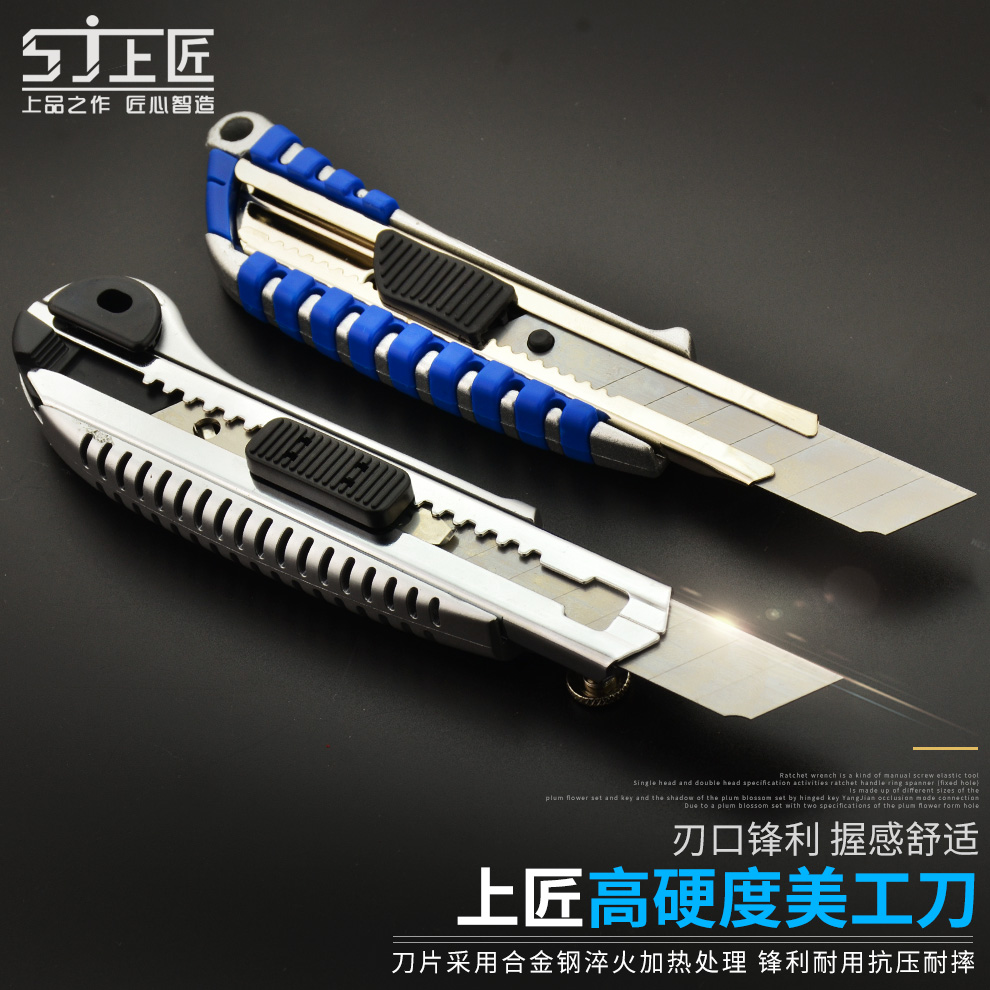cutter: (12, 273, 849, 720), (201, 109, 980, 537)
